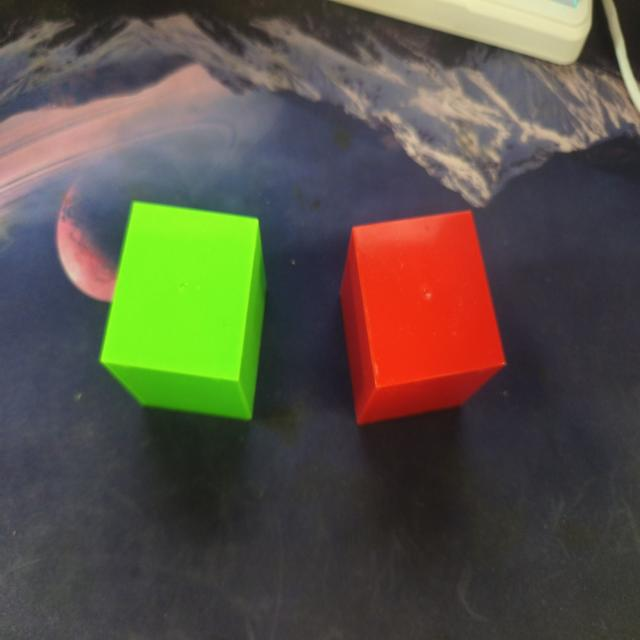green: (86, 194, 278, 432)
red: (331, 192, 522, 436)
